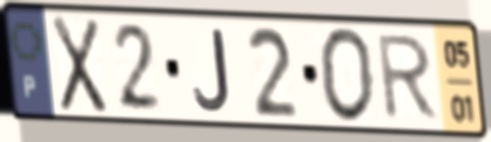2: (244, 24, 301, 121), (111, 19, 164, 114)
J: (190, 26, 233, 114)
O: (316, 25, 378, 127)
R: (375, 32, 442, 123)
X: (48, 12, 110, 117)
